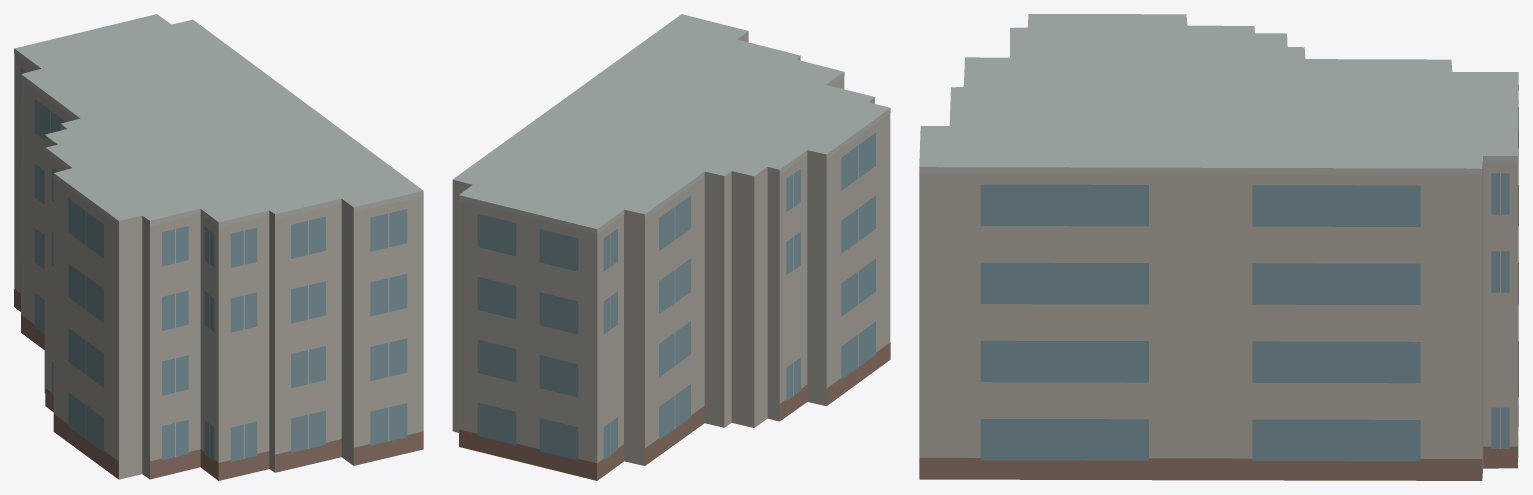
File: survey-upis-33043869.glb
3 renders of one model, left to right at view 1: azimuth 30°, elevation 25°; view 2: azimuth 150°, elevation 25°; view 3: azimuth 270°, elevation 25°, orthographic. The views are drawn at different scales.
Visible parts, largest first — view 1: survey-upis-33043869.tmp; view 2: survey-upis-33043869.tmp; view 3: survey-upis-33043869.tmp.
Boxes of the visible parts, bbox=[...] form: survey-upis-33043869.tmp: bbox=[14, 14, 423, 480]; survey-upis-33043869.tmp: bbox=[452, 14, 890, 480]; survey-upis-33043869.tmp: bbox=[919, 14, 1518, 480].
Size of the model in its own units: 12.95 by 12.2 by 21.23.
